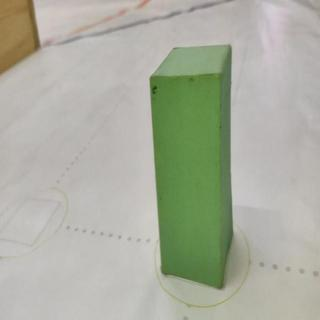greenbox: (149, 43, 232, 291)
